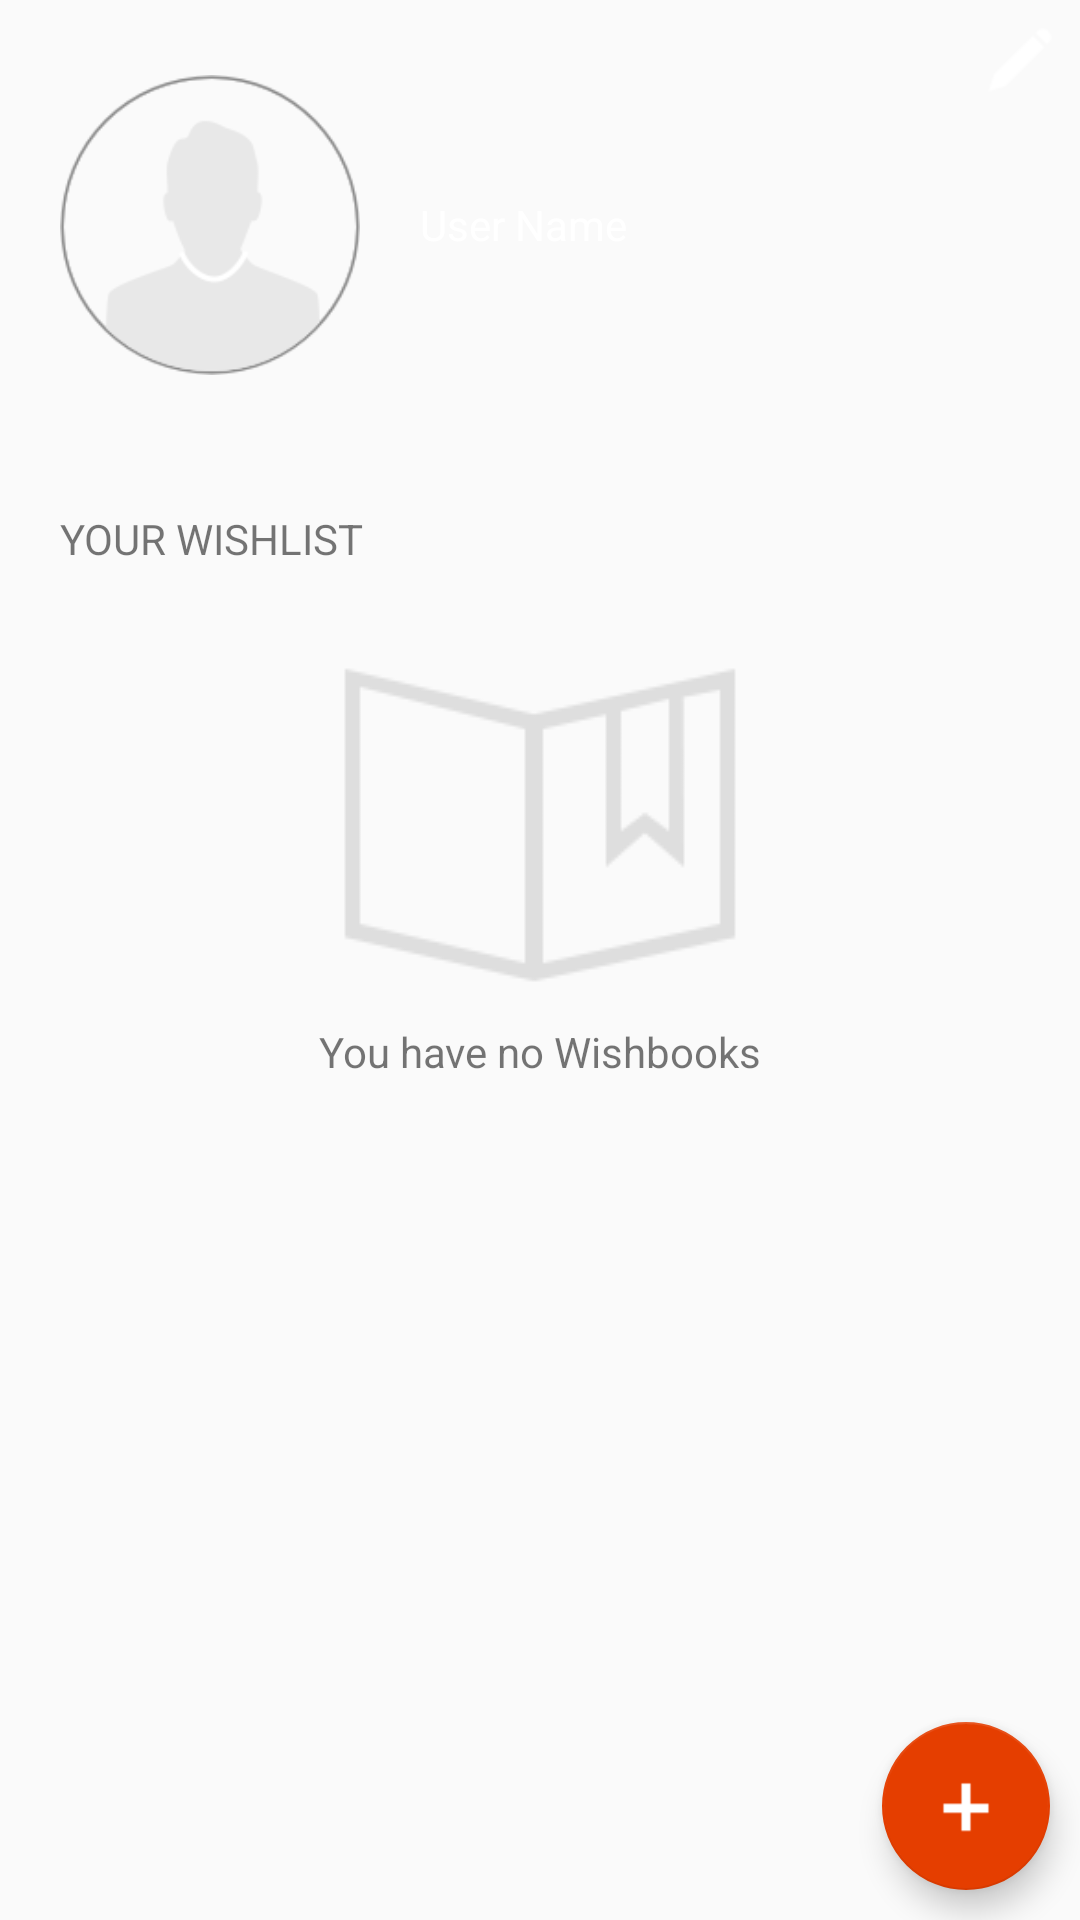

Icons on this 1080×1920 Android screen, each with its box as (x1=x1, y1=y1, x2=x2, y2=y2):
addwish: (x1=882, y1=1722, x2=1050, y2=1890)
